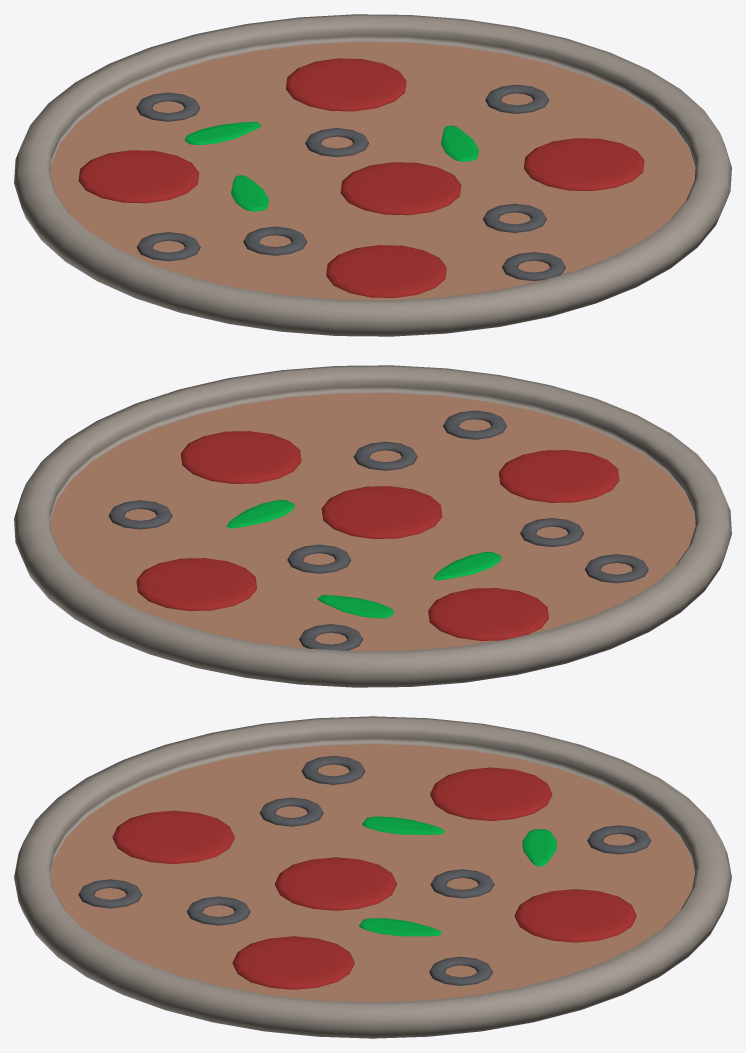
File: PizzaC_geo.fbx
3 views of the same model, one above another, from view 1: azimuth 30°, elevation 25°; view 2: azimuth 150°, elevation 25°; view 3: azimuth 270°, elevation 25° (orthographic).
Parts seen in each view (by area): view 1: PizzaC; view 2: PizzaC; view 3: PizzaC.
Part boxes in pixels (x1,y1,x2,y2): PizzaC: (14,14,731,336); PizzaC: (14,365,731,687); PizzaC: (14,716,731,1038).
Size of the model in its own units: 41.9 by 1.94 by 41.9.
Materials: 1 (1 with a texture image).
